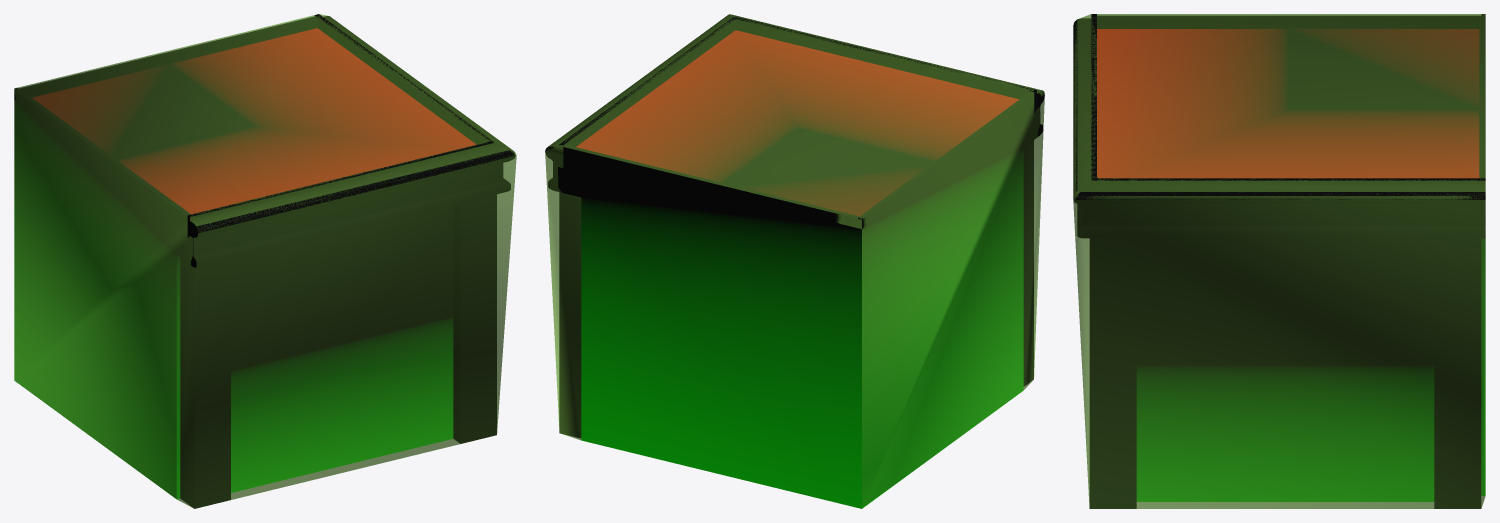
The model's file is M_md_Stall2_90cnr_01.fbx.
3 renders of one model, left to right at view 1: azimuth 30°, elevation 25°; view 2: azimuth 150°, elevation 25°; view 3: azimuth 270°, elevation 25°, orthographic. The views are drawn at different scales.
Visible parts, largest first — view 1: M_md_Stall2_90cnr_01_col_01, M_md_Stall2_90cnr_01_LOD0; view 2: M_md_Stall2_90cnr_01_LOD0, M_md_Stall2_90cnr_01_col_01; view 3: M_md_Stall2_90cnr_01_col_01, M_md_Stall2_90cnr_01_LOD0.
Boxes of the visible parts, x1,y1,x2,y2 form: M_md_Stall2_90cnr_01_col_01: (14, 14, 516, 508); M_md_Stall2_90cnr_01_LOD0: (14, 14, 515, 508); M_md_Stall2_90cnr_01_LOD0: (545, 14, 1044, 508); M_md_Stall2_90cnr_01_col_01: (545, 14, 1044, 508); M_md_Stall2_90cnr_01_col_01: (1073, 14, 1485, 508); M_md_Stall2_90cnr_01_LOD0: (1073, 14, 1485, 508).
Size of what is drawn, in the model's own units: 104 by 91.22 by 104.
